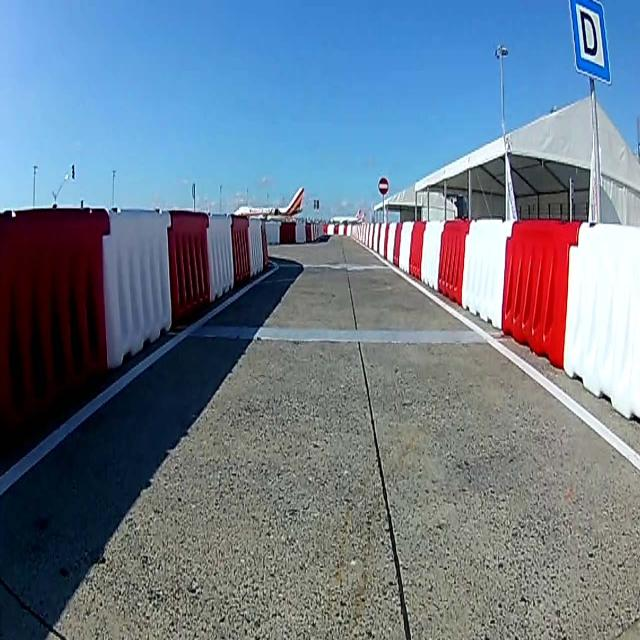durak: (570, 0, 612, 85)
girisyok: (377, 176, 389, 196)
